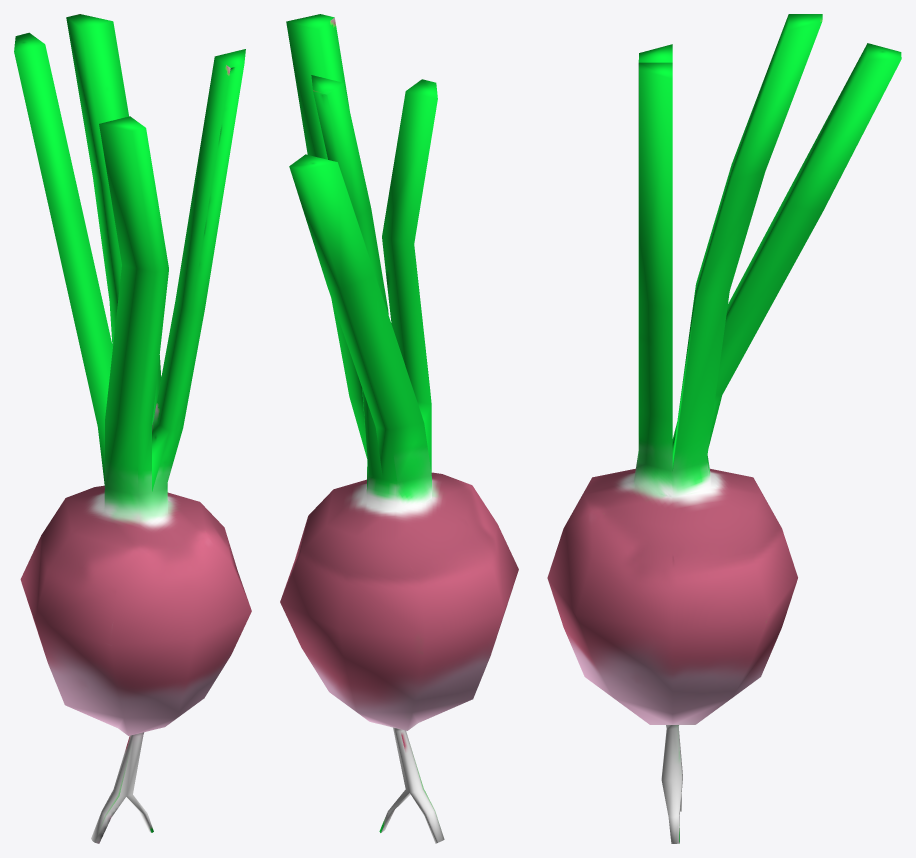
The model's file is Turnip.fbx.
The picture shows the model from 3 angles, left to right: view 1: azimuth 30°, elevation 25°; view 2: azimuth 150°, elevation 25°; view 3: azimuth 270°, elevation 25°; orthographic projection. The views are drawn at different scales.
Parts seen in each view (by area): view 1: Turnip; view 2: Turnip; view 3: Turnip.
Part boxes in pixels (box(x1,y1,x2,y2)): Turnip: box(14, 14, 251, 843); Turnip: box(280, 14, 518, 843); Turnip: box(547, 14, 901, 843).
Bounding box in the file's own units: 10.61 × 36.85 × 14.39.
